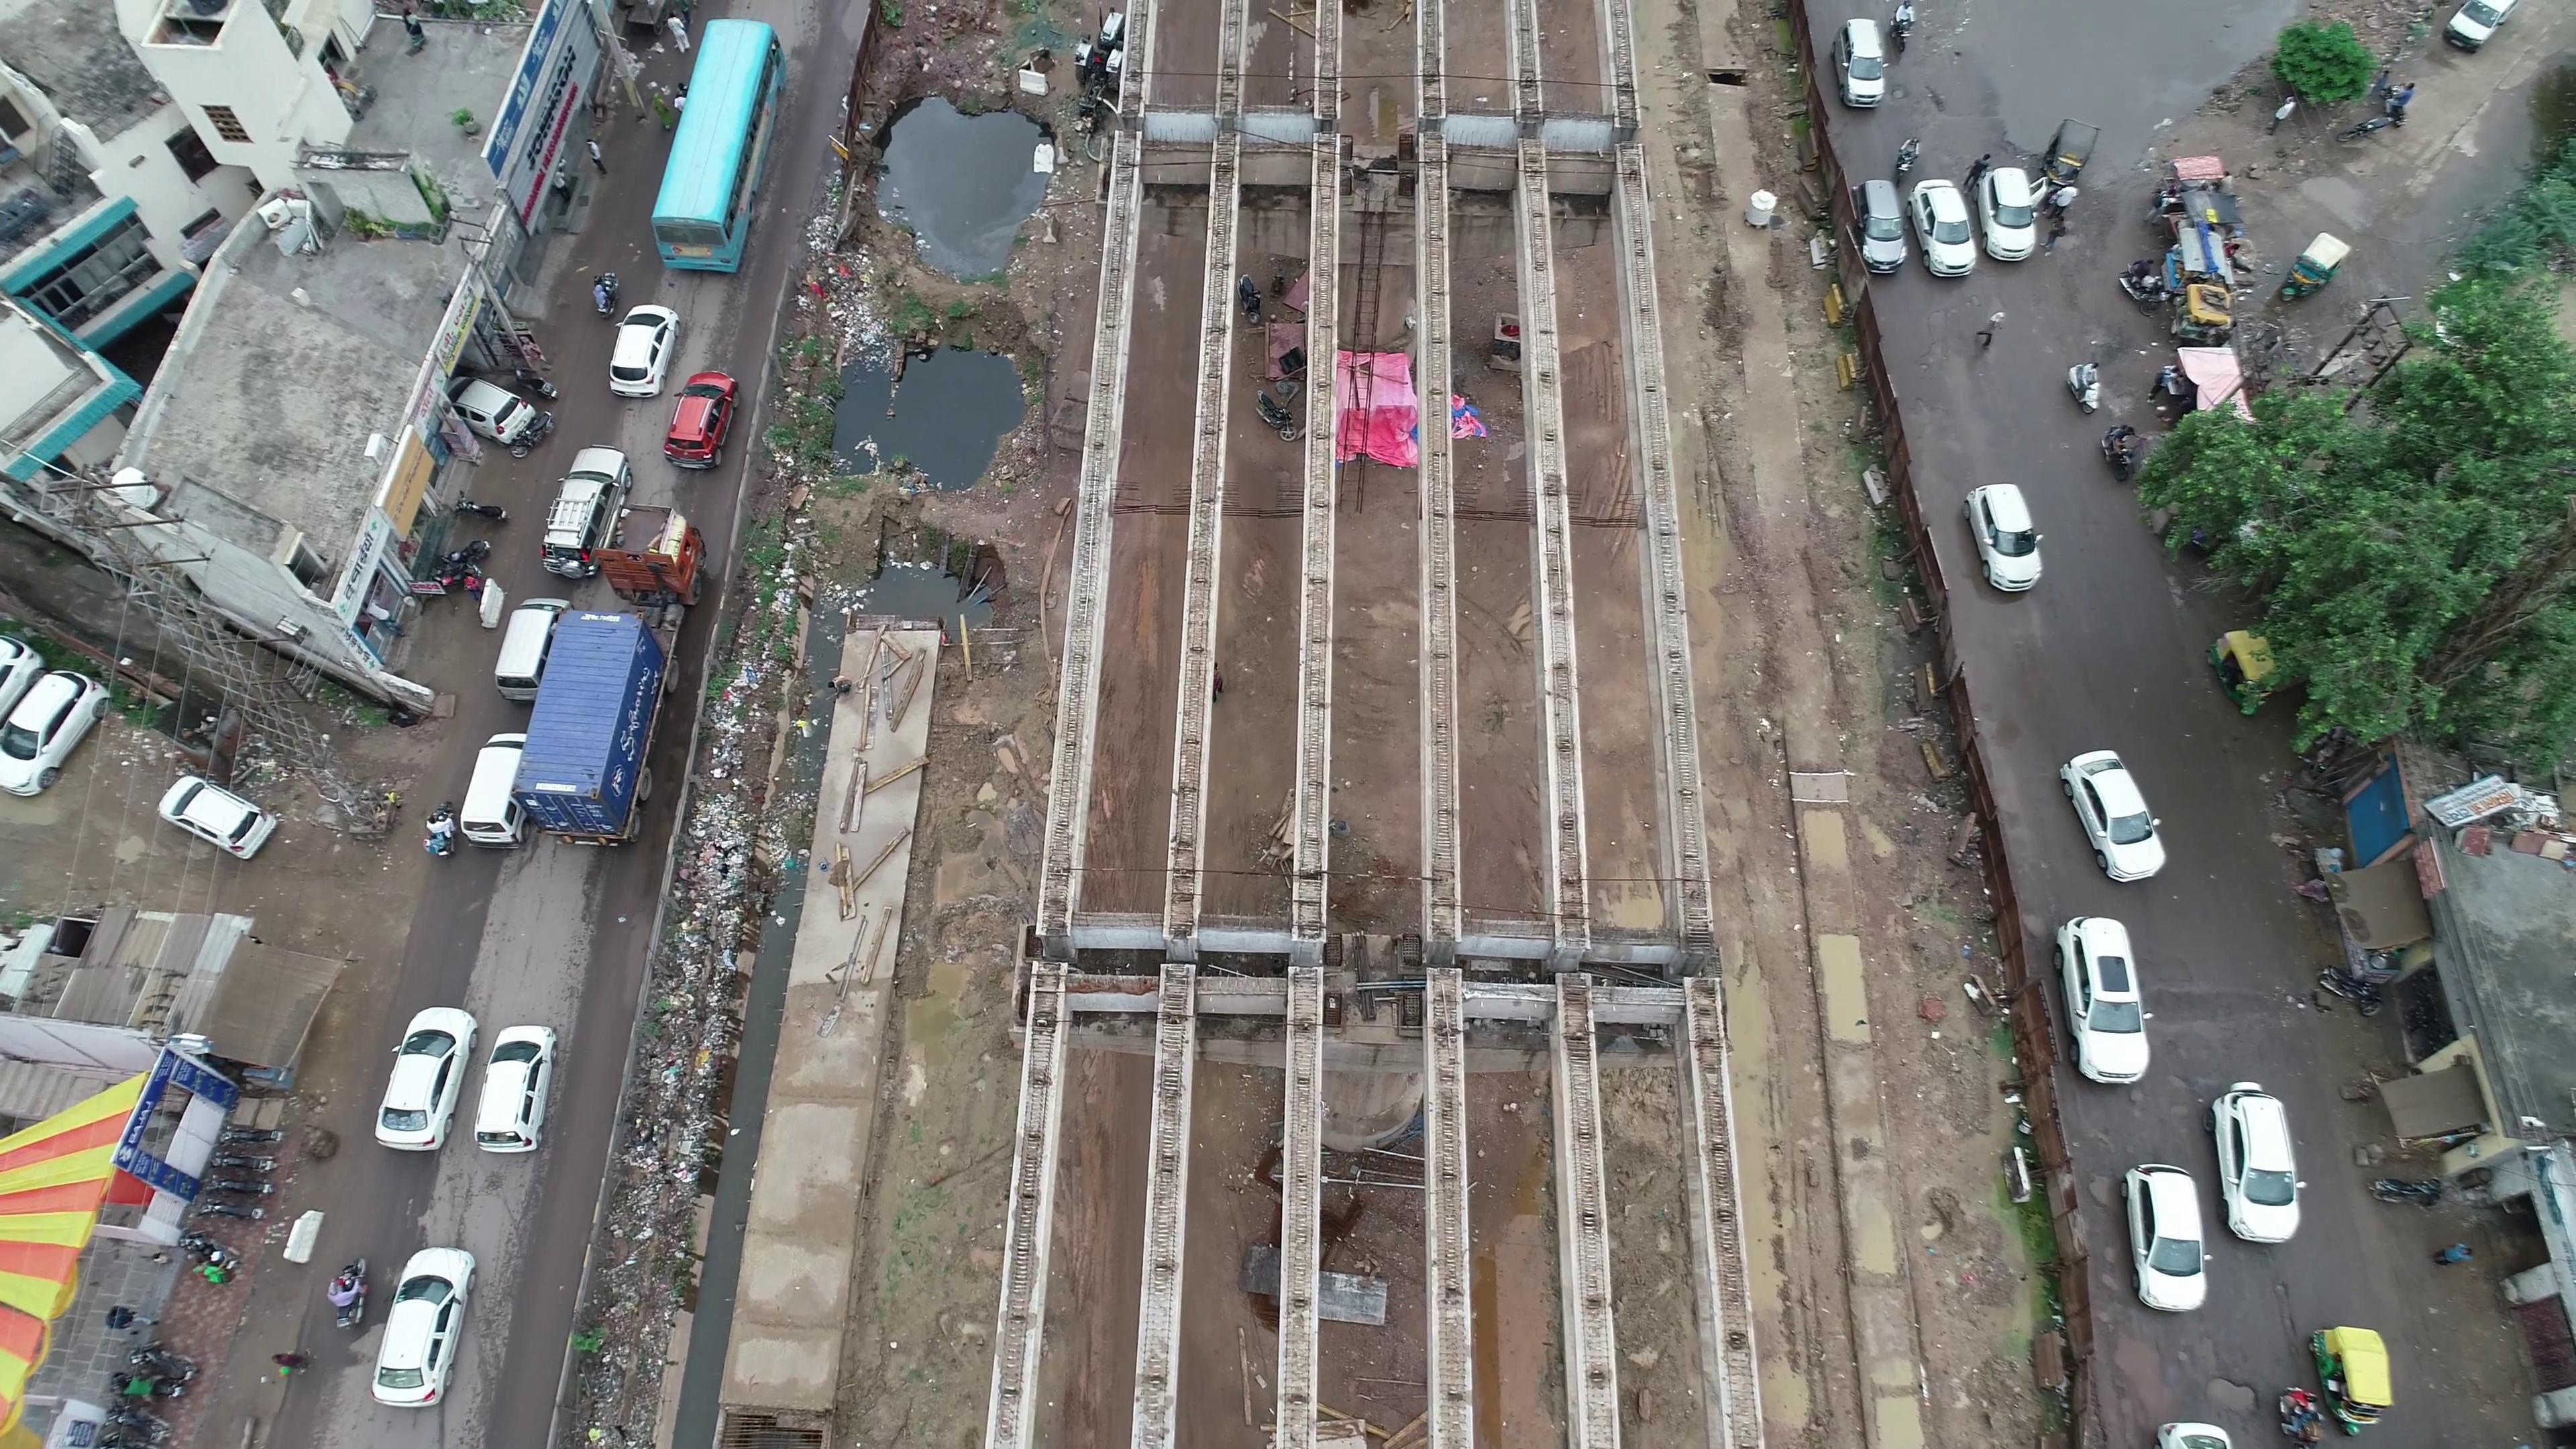Potholes: (2098, 1076, 2201, 1150), (2178, 1341, 2263, 1424)
